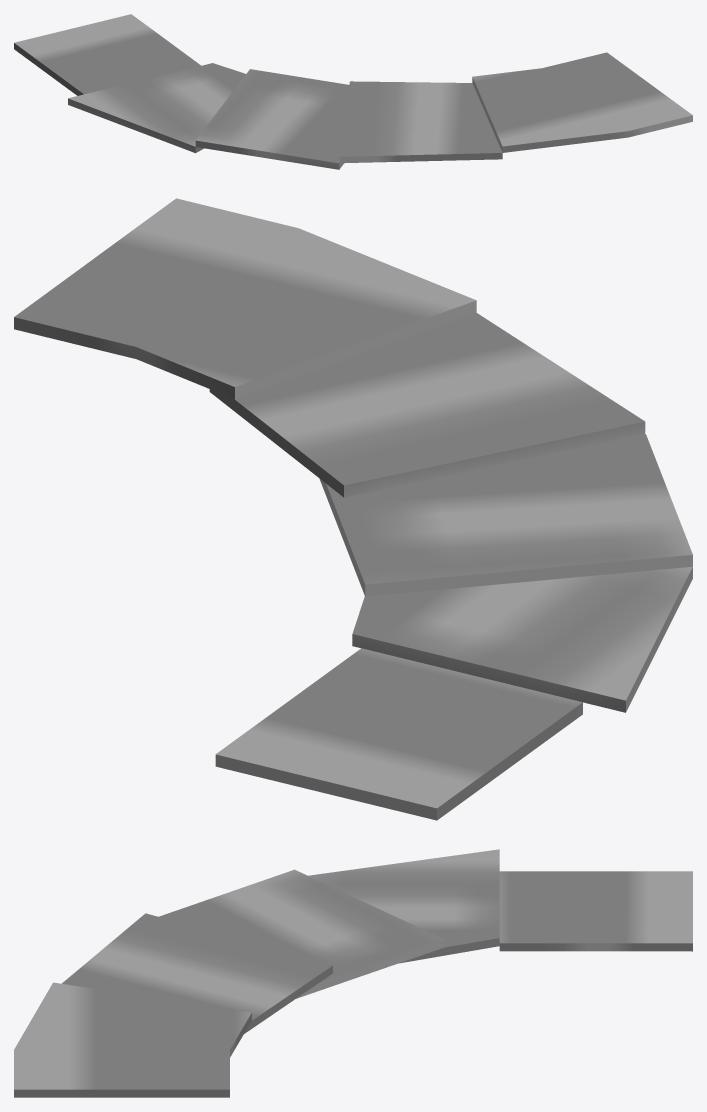
File: floor_mainStair.fbx
3 views of the same model, one above another, from view 1: azimuth 30°, elevation 25°; view 2: azimuth 150°, elevation 25°; view 3: azimuth 270°, elevation 25° (orthographic). The views are drawn at different scales.
Visible parts, largest first — view 1: floor_mainStair; view 2: floor_mainStair; view 3: floor_mainStair.
Part boxes in pixels (<box>): floor_mainStair: <box>14,14,692,169</box>; floor_mainStair: <box>14,198,692,820</box>; floor_mainStair: <box>14,849,692,1097</box>.
Bounding box in the file's own units: 4211 × 299 × 4569.
